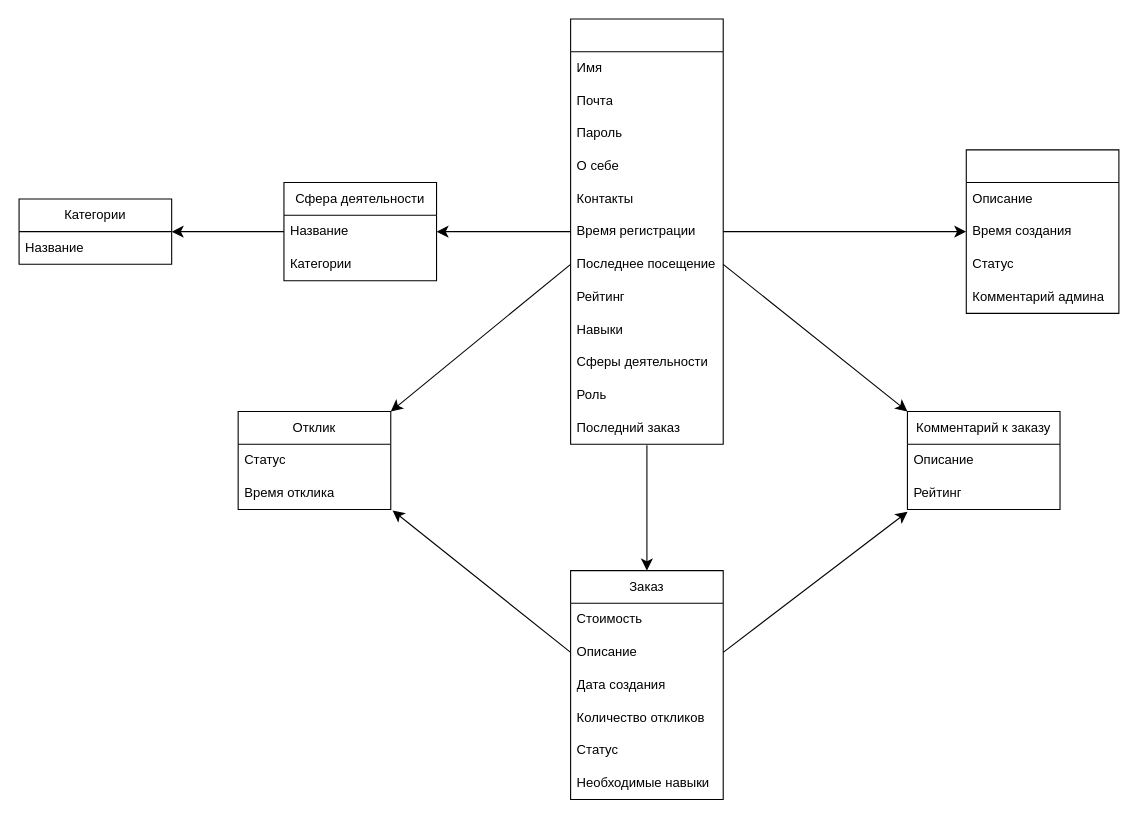
Some shapes in this 1138 by 819 pixel diagram are drawn without their labels. The shapes that lost their labels are listed below. From the top down, each one's box as (x1, y1, x2, y2) in pixels, then its label:
(570, 18, 723, 444): Пользователь
(965, 149, 1119, 313): Жалоба
